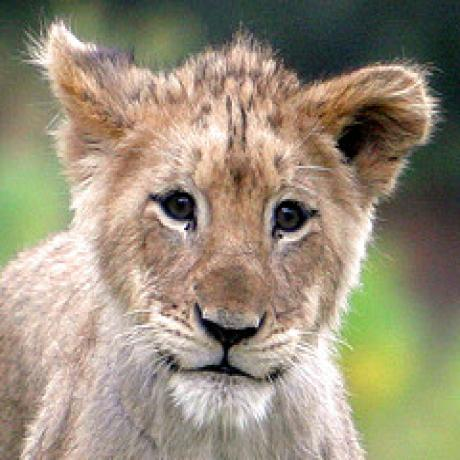Lion: (0, 11, 437, 460)
